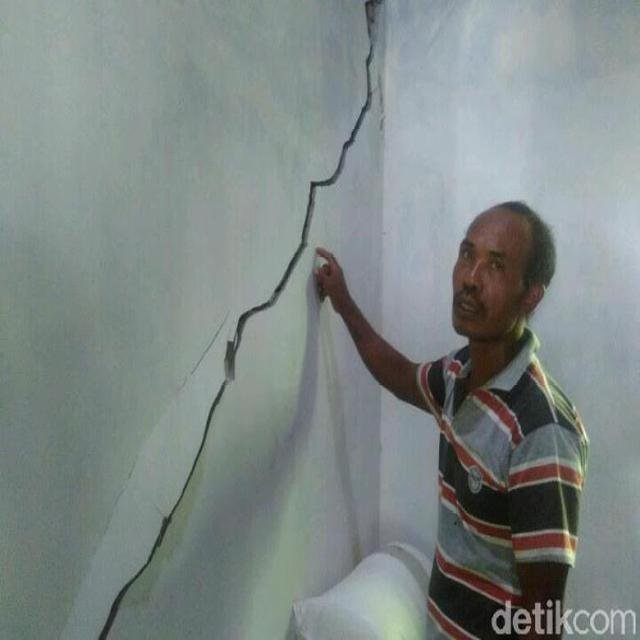crack: (100, 0, 383, 639)
